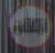Heavy Vehicles: (7, 3, 54, 47)
